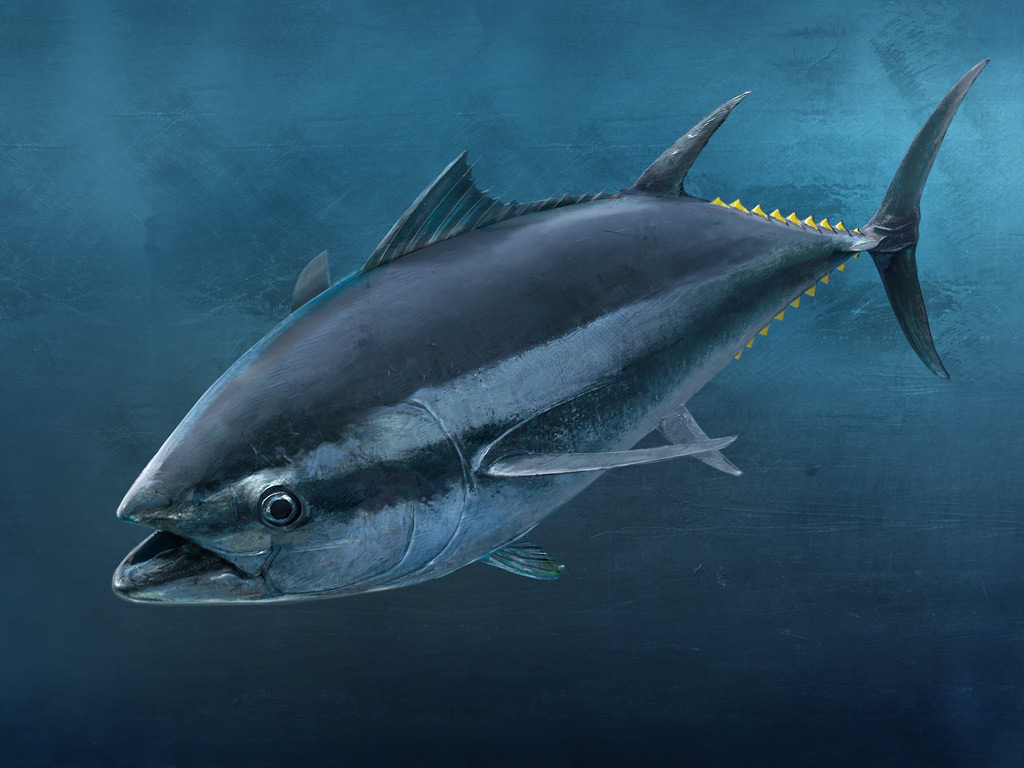Bluefina Tuna: (80, 64, 989, 623)
